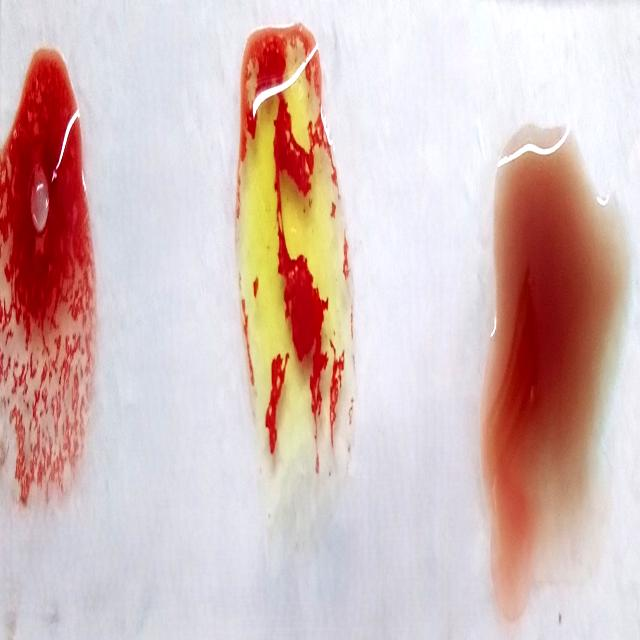B: (238, 50, 357, 491)
D: (0, 65, 97, 507)
